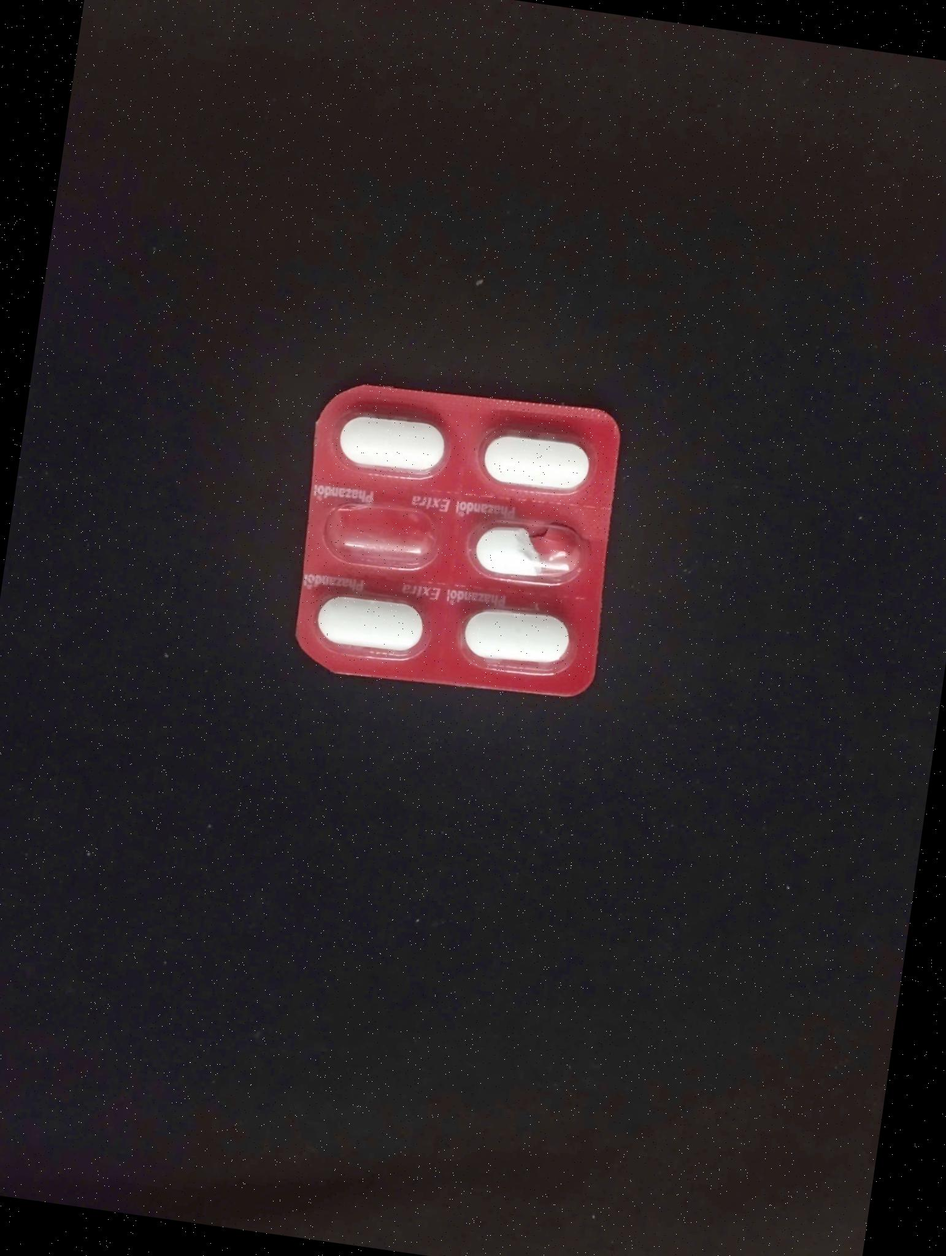Empty: (303, 491, 442, 575)
Full: (467, 413, 604, 499), (329, 396, 458, 483), (456, 595, 579, 681), (310, 583, 429, 665)
Partial: (459, 511, 590, 594)
